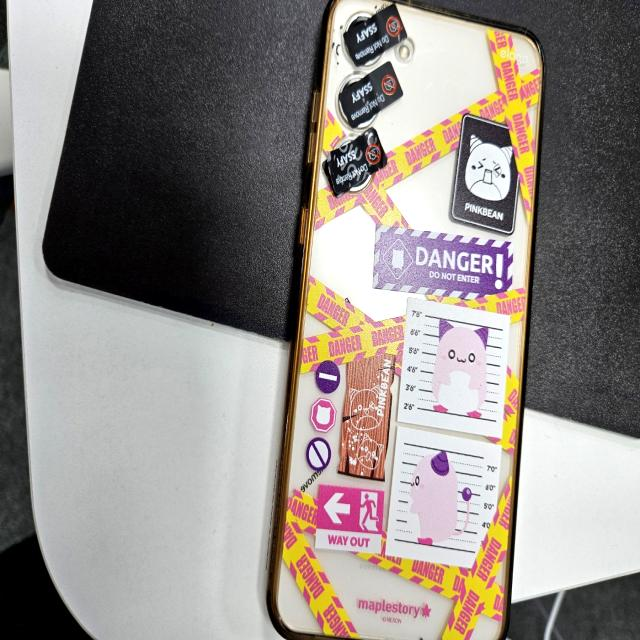phone: (275, 1, 540, 640)
removed_sticker: (326, 133, 385, 190)
sticker: (345, 3, 406, 63), (342, 67, 398, 122)
